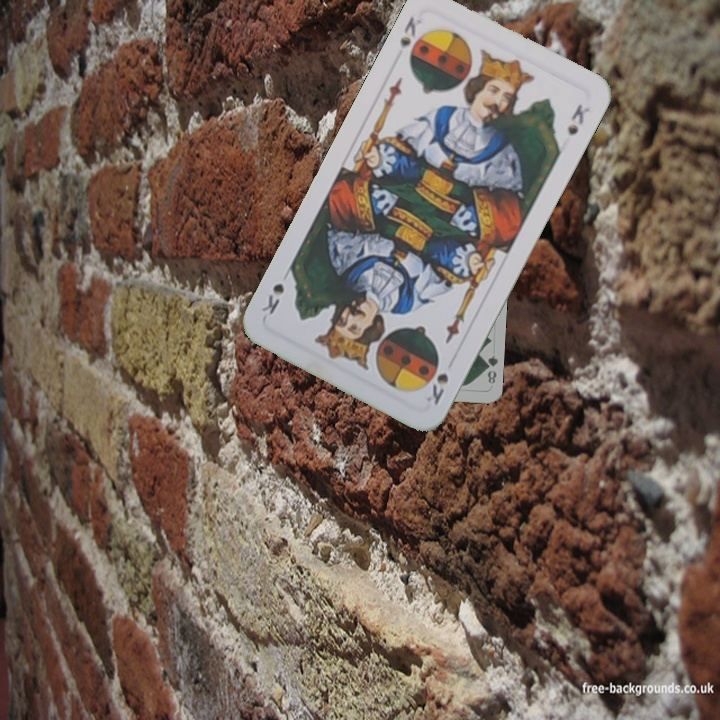G8: (479, 351, 500, 386)
SK: (395, 12, 425, 50), (422, 369, 451, 408)
